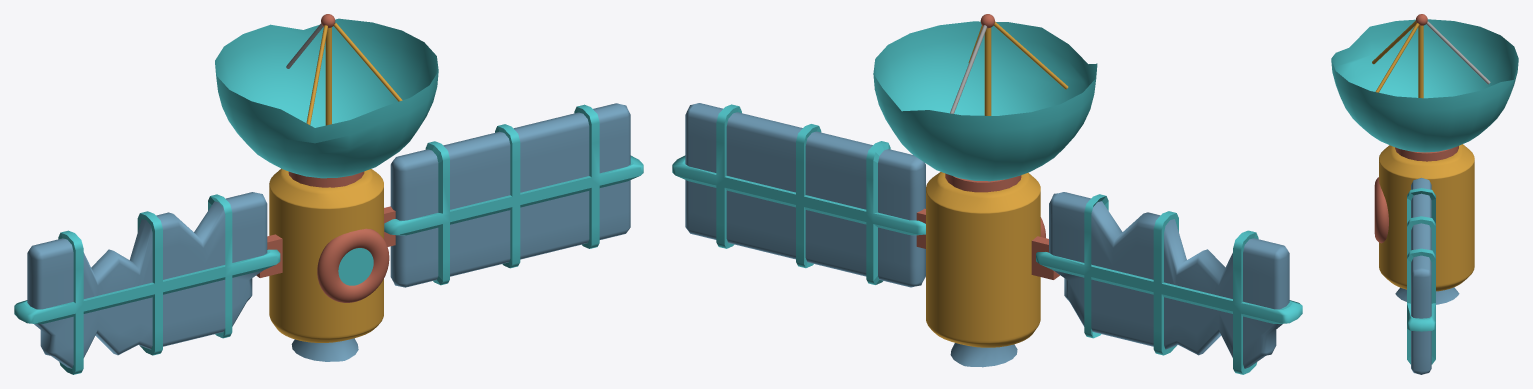
The model's file is Satelitte_orang_Blue.fbx.
The picture shows the model from 3 angles, left to right: view 1: azimuth 30°, elevation 25°; view 2: azimuth 150°, elevation 25°; view 3: azimuth 270°, elevation 25°; orthographic projection. The views are drawn at different scales.
Parts seen in each view (by area): view 1: polySurface1, polySurface2, pSphere3, satelitte_body, window_rim, pCylinder1, window, pCube1, pCylinder2, pCylinder3; view 2: polySurface1, polySurface2, pSphere3, satelitte_body, pCylinder1, pCube1, pCylinder2, pCylinder3; view 3: pSphere3, satelitte_body, polySurface1, window_rim, pCylinder2, pCylinder3, pCylinder1, pCylinder6, pCylinder5, pCylinder4.
Part boxes in pixels (x1,y1,x2,y2): polySurface1: (384,103,643,287); polySurface2: (14,192,280,374); pSphere3: (215,18,438,178); satelitte_body: (269,168,383,342); window_rim: (317,228,389,302); pCylinder1: (291,338,358,361); window: (338,248,373,285); pCube1: (256,206,395,277); pCylinder2: (288,171,364,187); pCylinder3: (325,27,331,125); polySurface1: (672,103,925,287); polySurface2: (1036,192,1302,374); pSphere3: (873,21,1097,181); satelitte_body: (926,172,1040,347); pCylinder1: (950,343,1017,367); pCube1: (916,208,1059,279); pCylinder2: (945,173,1021,192); pCylinder3: (984,27,991,115); pSphere3: (1331,19,1518,152); satelitte_body: (1379,144,1474,291); polySurface1: (1407,178,1435,374); window_rim: (1374,177,1388,243); pCylinder2: (1395,146,1458,161); pCylinder3: (1418,25,1423,98); pCylinder1: (1395,287,1459,304); pCylinder6: (1426,21,1490,84); pCylinder5: (1375,23,1419,92); pCylinder4: (1372,20,1416,64).
Bounding box in the file's own units: 26.64 × 13.74 × 8.37.
